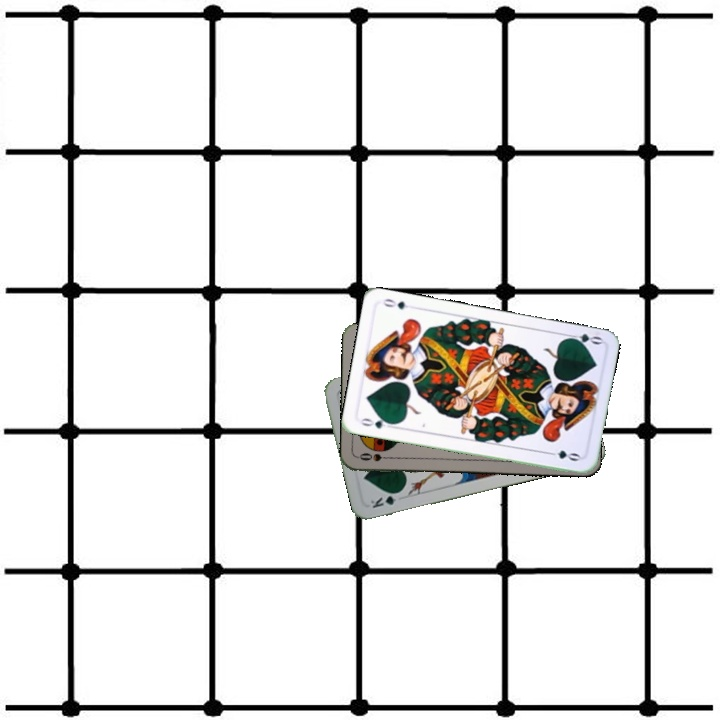GK: (366, 488, 405, 511)
GO: (563, 329, 604, 348), (357, 414, 397, 431)
SO: (355, 449, 396, 464)
